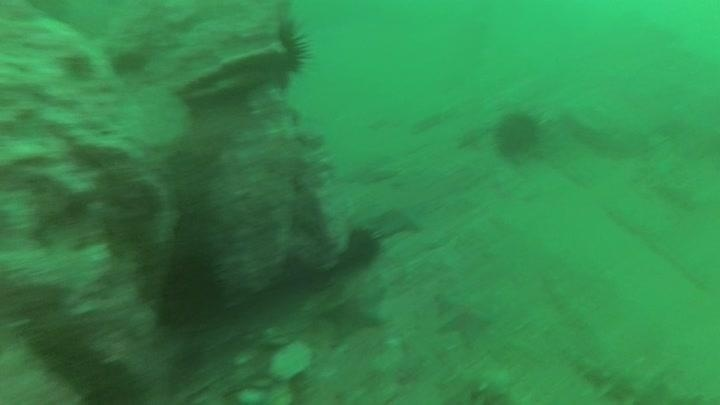echinus: (153, 250, 229, 331), (263, 18, 316, 90), (491, 109, 544, 161), (342, 224, 385, 270), (109, 46, 151, 79), (58, 49, 97, 82)
holothurian: (570, 349, 704, 405)
starfish: (316, 276, 390, 342), (432, 286, 498, 347), (362, 202, 426, 240)
